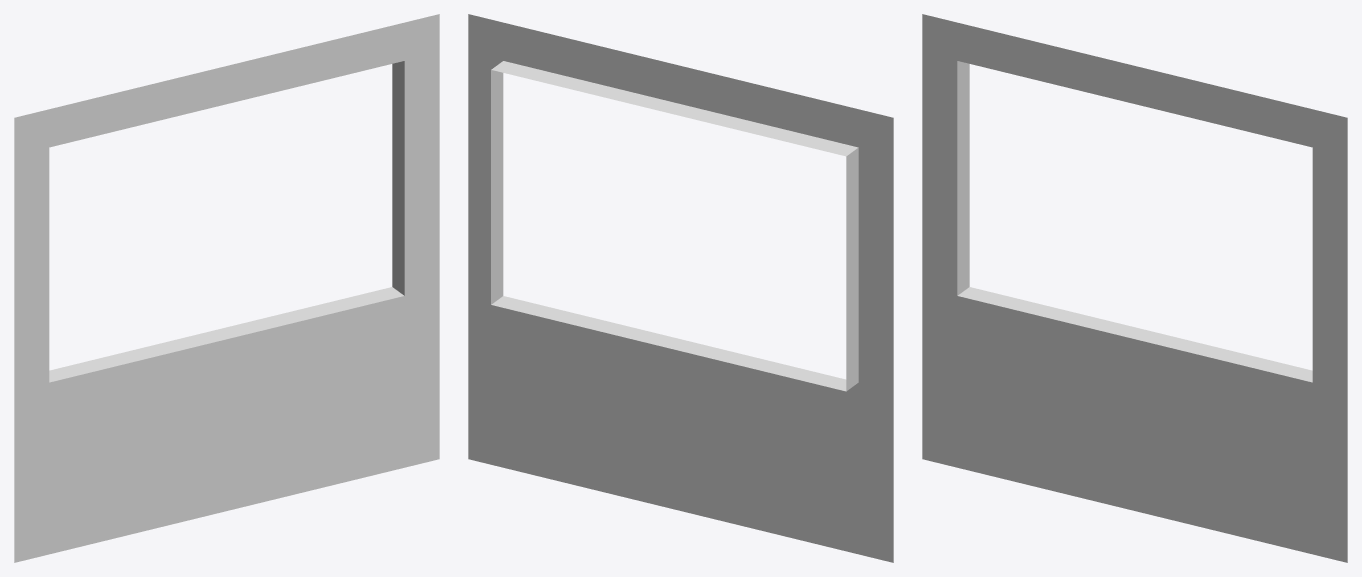
Rendered from Ext-PlainWindowframe.fbx.
3 renders of one model, left to right at view 1: azimuth 30°, elevation 25°; view 2: azimuth 150°, elevation 25°; view 3: azimuth 330°, elevation 25°, orthographic.
Parts seen in each view (by area): view 1: Ext-PlainWindowframe; view 2: Ext-PlainWindowframe; view 3: Ext-PlainWindowframe.
Part boxes in pixels (bbox=[...]): Ext-PlainWindowframe: bbox=[14, 14, 439, 562]; Ext-PlainWindowframe: bbox=[468, 14, 893, 562]; Ext-PlainWindowframe: bbox=[922, 14, 1347, 562].
Bounding box in the file's own units: 200 × 200 × 10.
